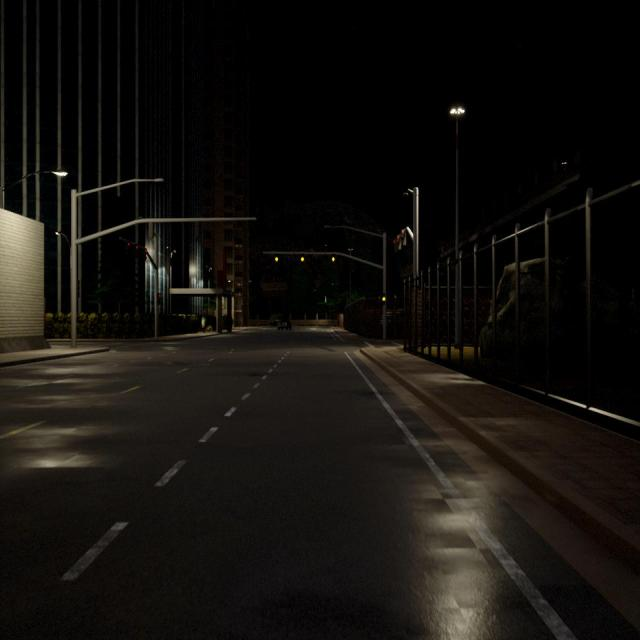Pedestrian: (200, 312, 207, 334)
Vehicle: (278, 317, 292, 331)
traffic_light: (401, 228, 407, 246), (142, 248, 148, 262), (397, 234, 401, 250), (157, 293, 161, 306), (382, 293, 386, 305), (274, 253, 278, 265), (300, 253, 304, 265), (393, 239, 397, 251), (332, 253, 335, 265), (128, 242, 130, 246), (136, 245, 138, 249)
